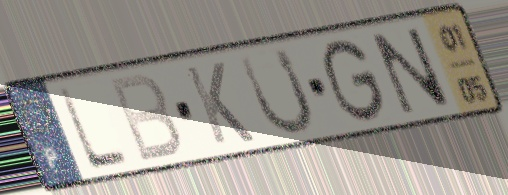B: (104, 70, 185, 166)
G: (320, 35, 389, 126)
K: (180, 59, 259, 148)
L: (54, 84, 134, 174)
N: (366, 24, 457, 118)
U: (235, 43, 317, 139)
